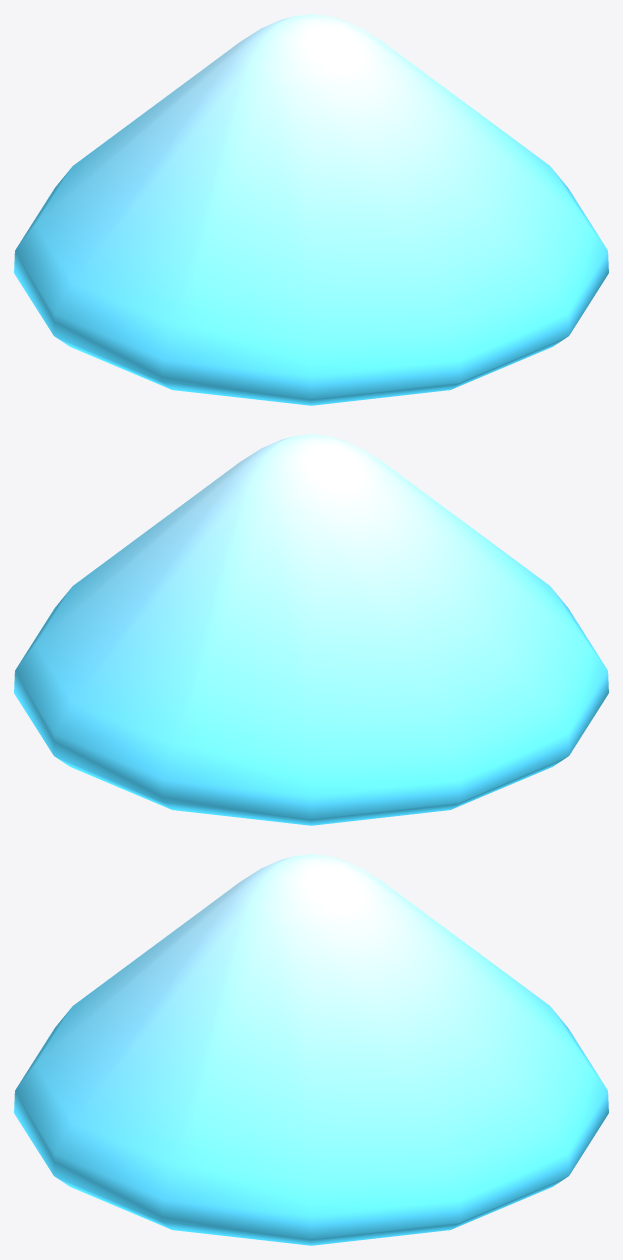
Rendered from tower_cap_001.glb.
3 views of the same model, one above another, from view 1: azimuth 30°, elevation 25°; view 2: azimuth 150°, elevation 25°; view 3: azimuth 270°, elevation 25° (orthographic).
Parts seen in each view (by area): view 1: tower_cap_001; view 2: tower_cap_001; view 3: tower_cap_001.
Part boxes in pixels (x1=…): tower_cap_001: x1=14, y1=14, x2=608, y2=405; tower_cap_001: x1=14, y1=434, x2=608, y2=825; tower_cap_001: x1=14, y1=854, x2=608, y2=1245.
Bounding box in the file's own units: 5.93 × 2.99 × 5.93.
1 material, 1 textured.
